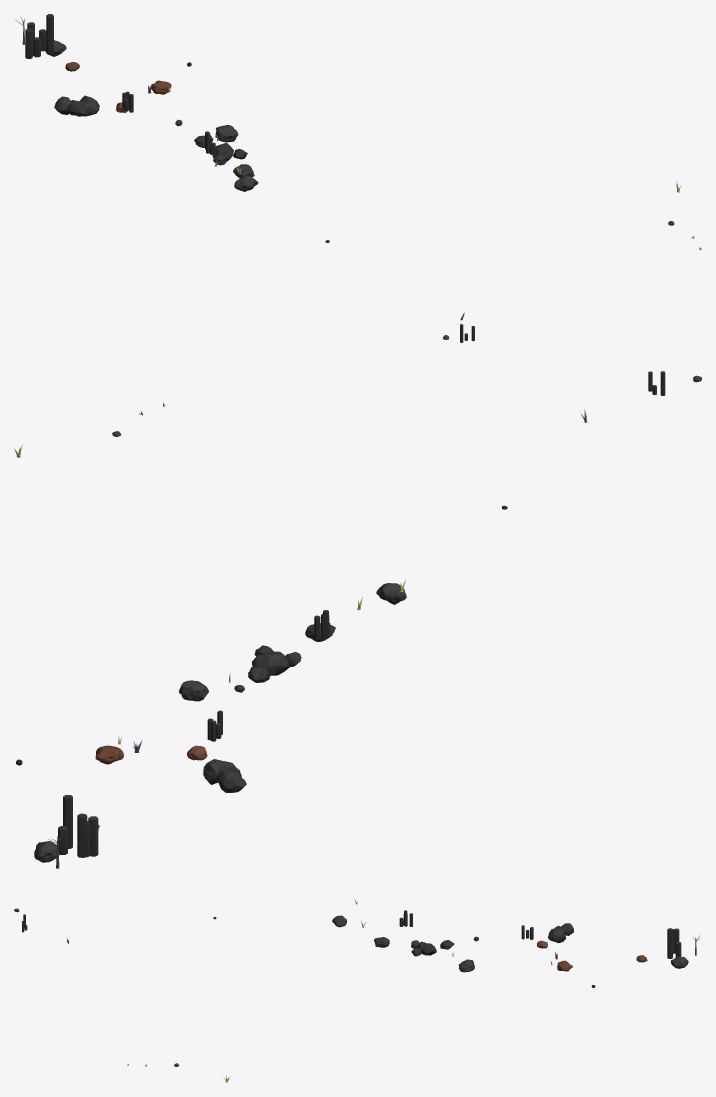
The model's file is ash_land_scatter_c22_28.glb.
3 views of the same model, one above another, from view 1: azimuth 30°, elevation 25°; view 2: azimuth 150°, elevation 25°; view 3: azimuth 270°, elevation 25° (orthographic). The views are drawn at different scales.
Visible parts, largest first — view 1: ash_land_scatter_c22_28; view 2: ash_land_scatter_c22_28; view 3: ash_land_scatter_c22_28.
Part boxes in pixels (left/top/right/bottom): ash_land_scatter_c22_28: left=15, top=14, right=701, bottom=342; ash_land_scatter_c22_28: left=14, top=371, right=701, bottom=868; ash_land_scatter_c22_28: left=14, top=898, right=699, bottom=1082.
Bounding box in the file's own units: 102 × 16.63 × 203.
